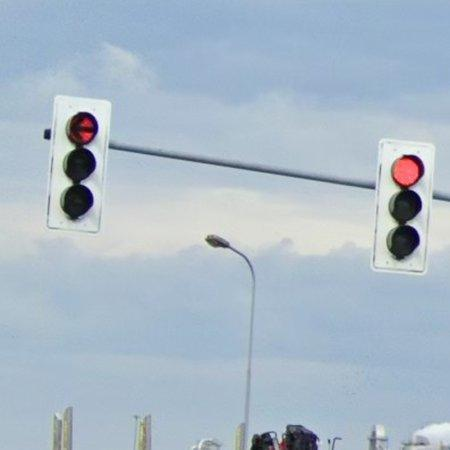traffic lights: (46, 94, 114, 234), (371, 137, 438, 275)
